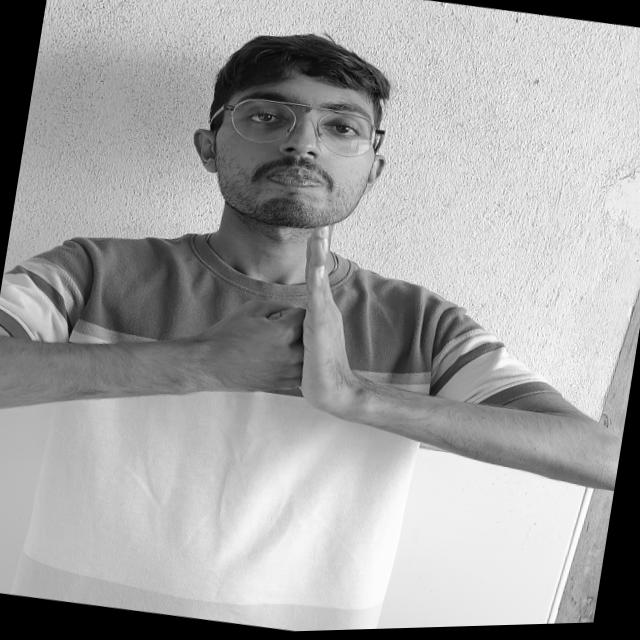Well Done: (155, 201, 439, 450)
